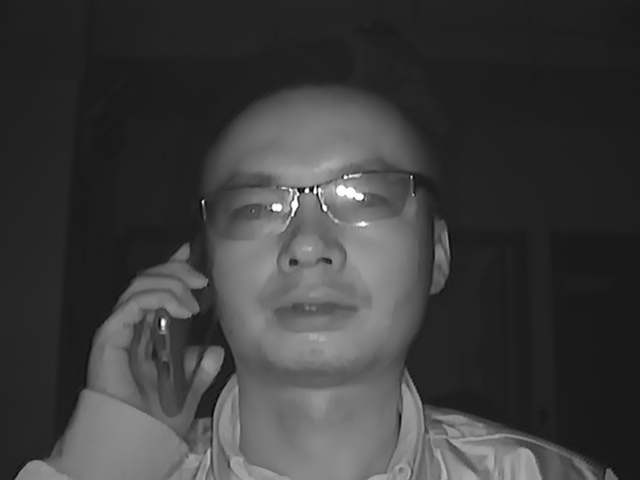hand: (103, 256, 225, 423)
